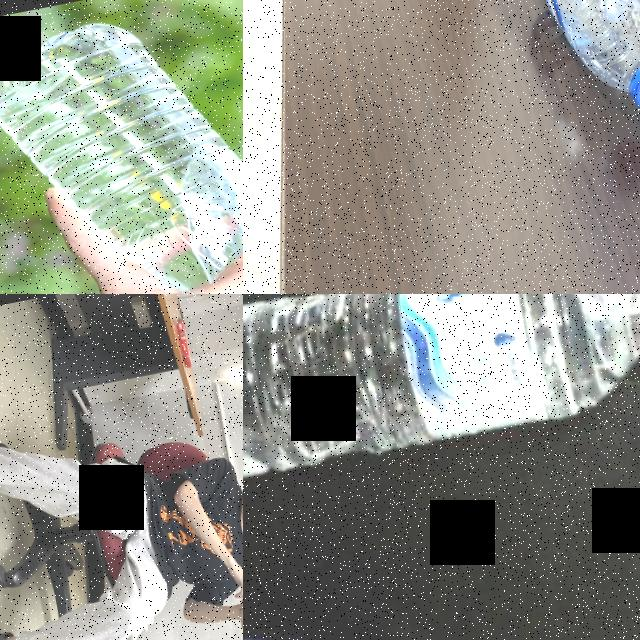bottle: (243, 294, 640, 501), (0, 0, 243, 294), (475, 0, 640, 155)
